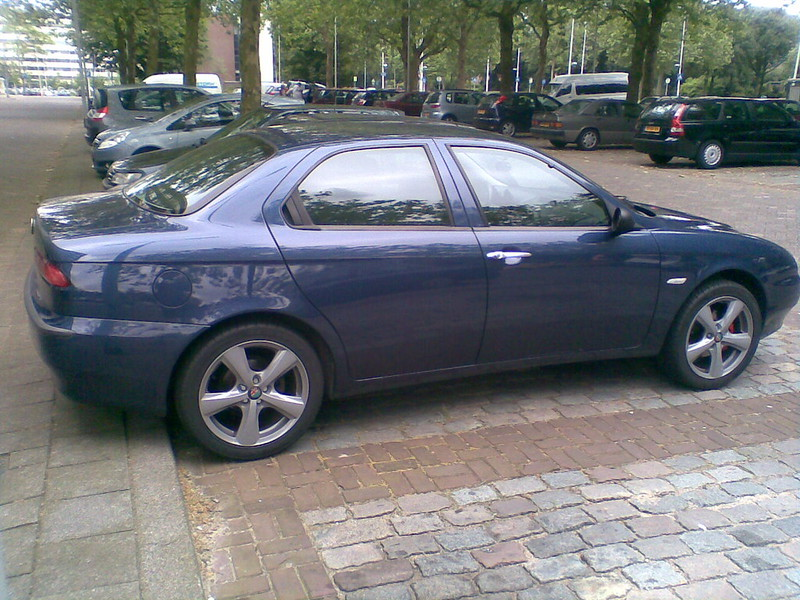car: (18, 133, 796, 454), (87, 93, 281, 167), (637, 93, 800, 163), (89, 83, 212, 132), (535, 93, 642, 145), (472, 90, 547, 126), (424, 86, 478, 117)
